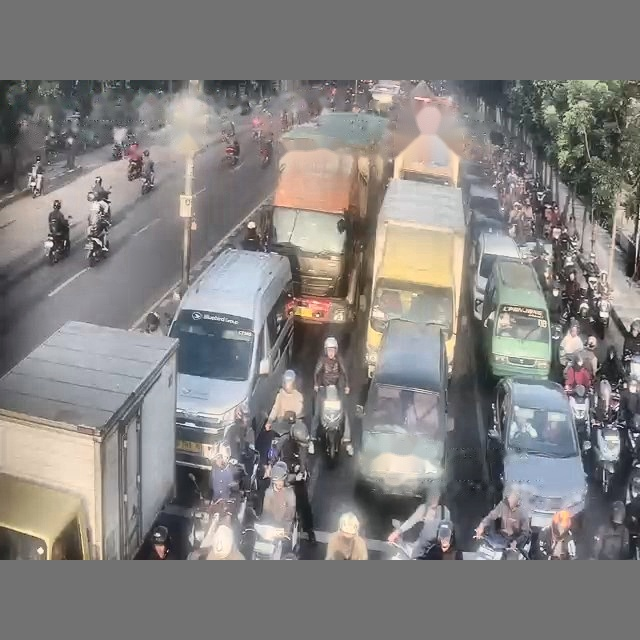Mobil: (487, 378, 588, 530)
Motor: (592, 422, 621, 494), (252, 518, 298, 559), (320, 385, 344, 462), (476, 532, 530, 559), (568, 384, 590, 446), (85, 226, 108, 266), (44, 233, 70, 264), (28, 173, 42, 197), (223, 145, 238, 166), (127, 160, 141, 180), (111, 142, 125, 160), (141, 176, 153, 195), (260, 145, 270, 167)
Truk: (0, 321, 177, 559), (365, 179, 465, 377), (265, 147, 368, 324), (393, 134, 460, 187)
